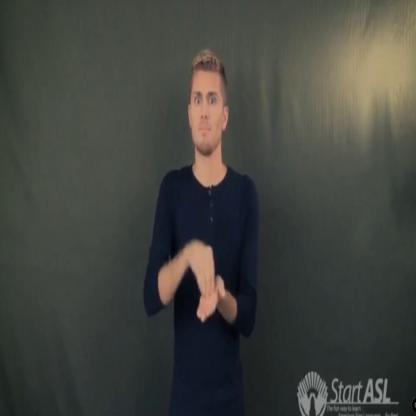Expensive: (163, 225, 237, 325)
